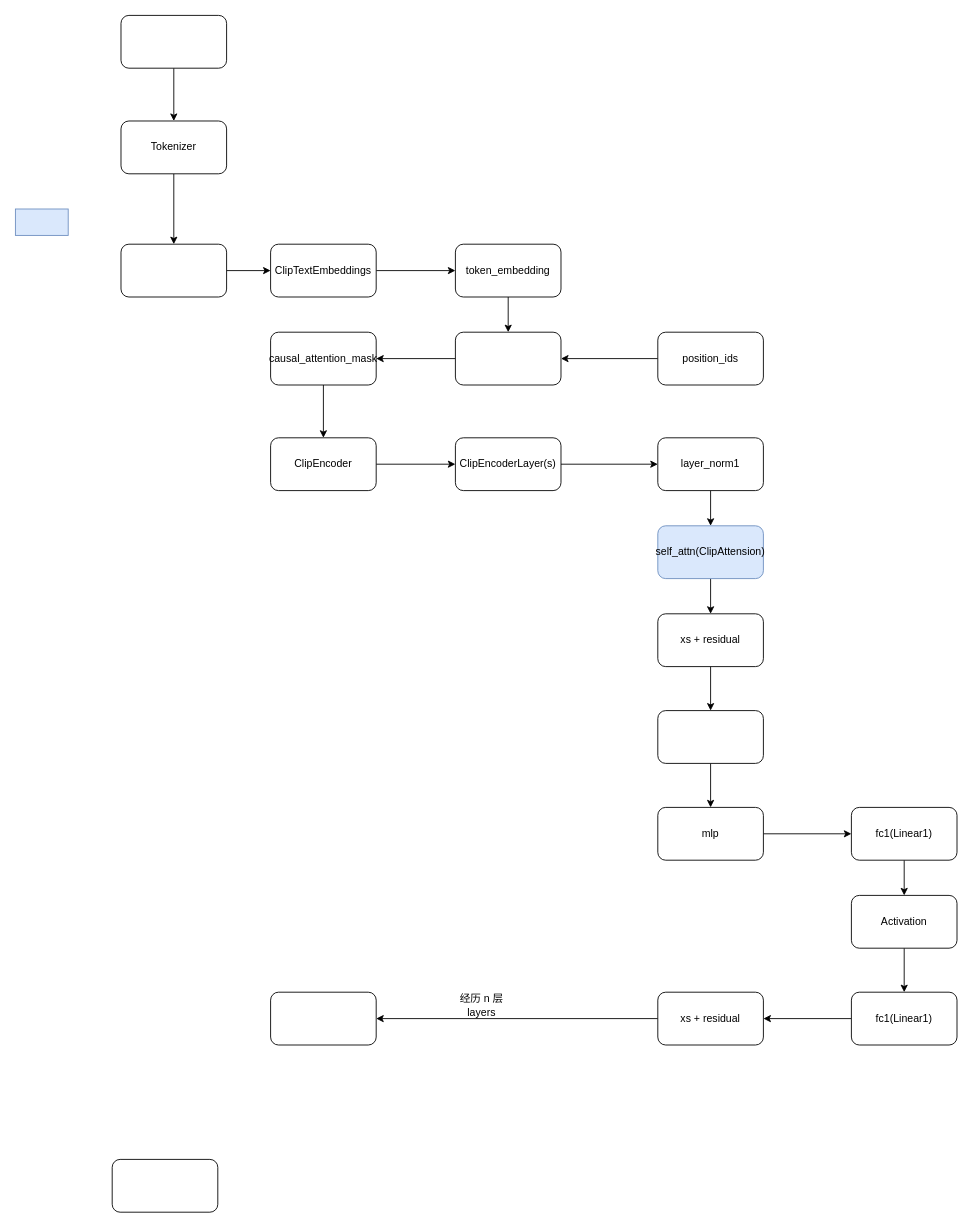
Image size: 972x1228. Some labels were removed from this diagram. The shapes that lost their labels are listed below. From the top down, each one's centre as x and y in pixels, then its label:
At (173,41): "文本".
At (41,221): "Clip".
At (173,270): "ClipTextTransformer".
At (508,358): "position_embedding".
At (710,736): "layer_norm2".
At (323,1018): "LayerNorm".
At (164,1185): "xs".
